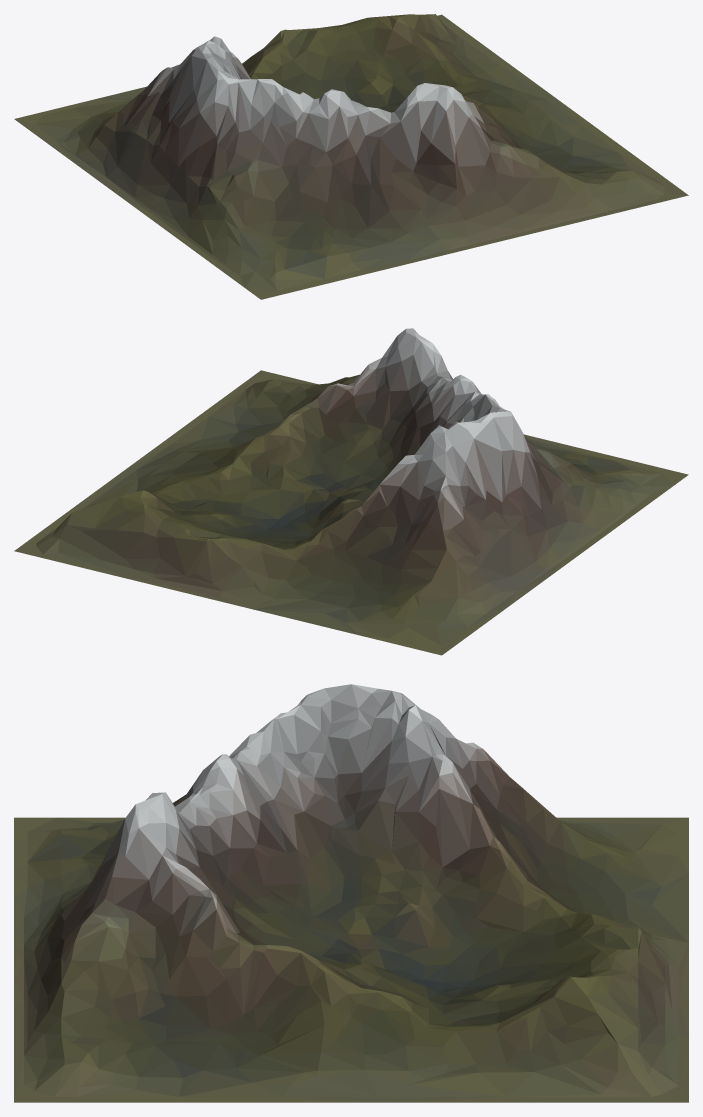
File: Sylvan-Snow_E.fbx
The picture shows the model from 3 angles, top to bottom: view 1: azimuth 30°, elevation 25°; view 2: azimuth 150°, elevation 25°; view 3: azimuth 270°, elevation 25°; orthographic projection. The views are drawn at different scales.
Visible parts, largest first — view 1: Sylvan-Snow_E; view 2: Sylvan-Snow_E; view 3: Sylvan-Snow_E.
Boxes of the visible parts, bbox=[...] form: Sylvan-Snow_E: bbox=[14, 14, 688, 299]; Sylvan-Snow_E: bbox=[14, 328, 688, 655]; Sylvan-Snow_E: bbox=[14, 684, 688, 1102].
Bounding box in the file's own units: 10000 × 2996 × 10000.
